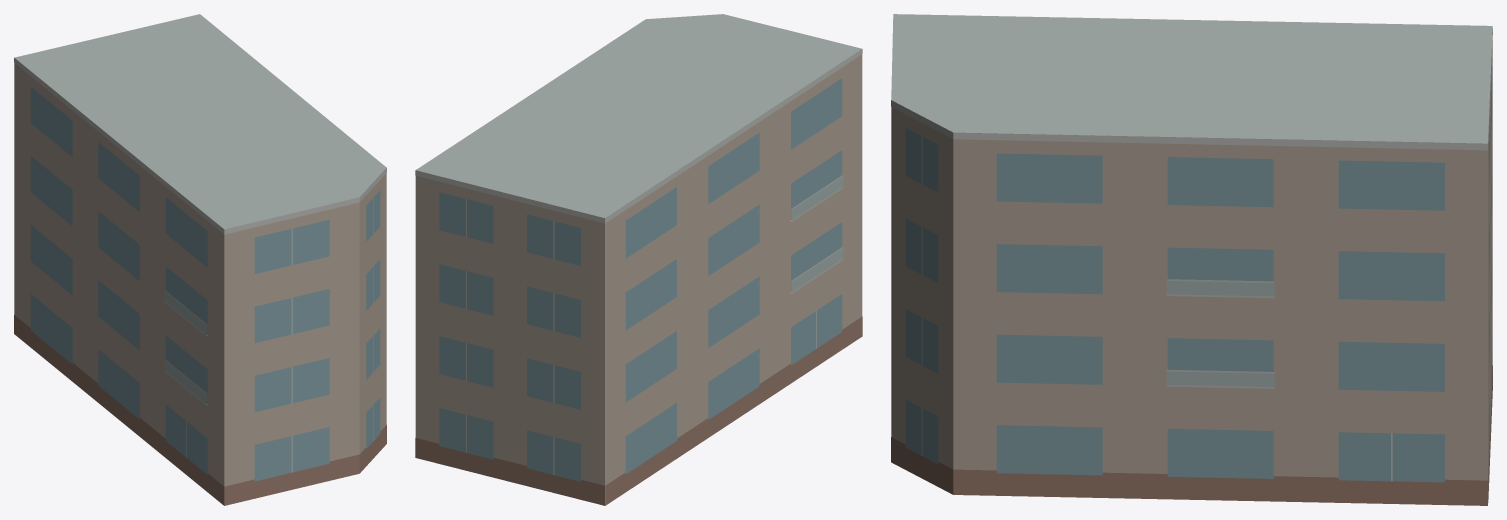
The model's file is survey-upis-32909648.glb.
3 views of the same model, side by side, from view 1: azimuth 30°, elevation 25°; view 2: azimuth 150°, elevation 25°; view 3: azimuth 270°, elevation 25° (orthographic). The views are drawn at different scales.
Visible parts, largest first — view 1: survey-upis-32909648.tmp; view 2: survey-upis-32909648.tmp; view 3: survey-upis-32909648.tmp.
Part boxes in pixels (x1,y1,x2,y2): survey-upis-32909648.tmp: (14, 14, 386, 505); survey-upis-32909648.tmp: (415, 14, 862, 505); survey-upis-32909648.tmp: (891, 14, 1492, 505).
Size of the model in its own units: 10.02 by 13.05 by 19.65.
